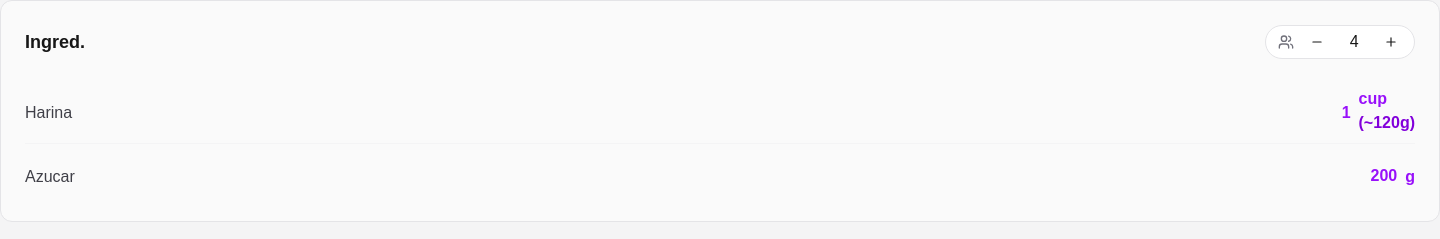
Test: PortionScaler › updates servings when changing ingredient amount
The image size is (1440, 239).
# Change Harina to 2 cups (double)
Replace the text in the number field next to "cup" with "2": x=1318, y=113 [1286,100,1350,126]
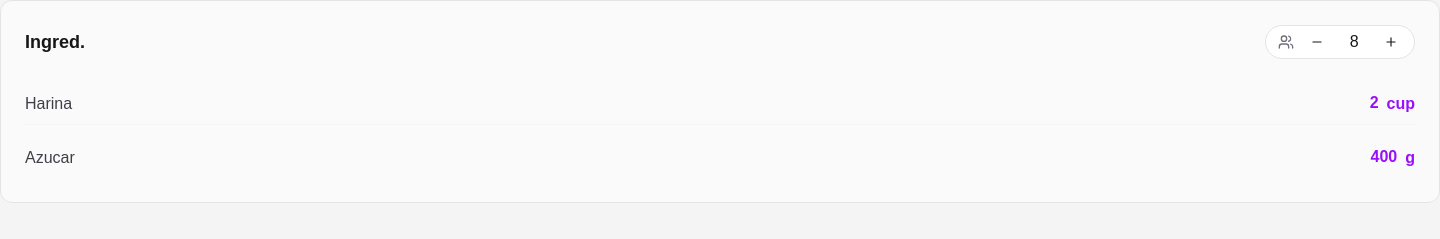
expect the text "8" is shown: met, box [1350,33,1359,50]
expect the number field showing "400" in the row of "Azucar" is shown: met, box [1333,145,1397,170]
